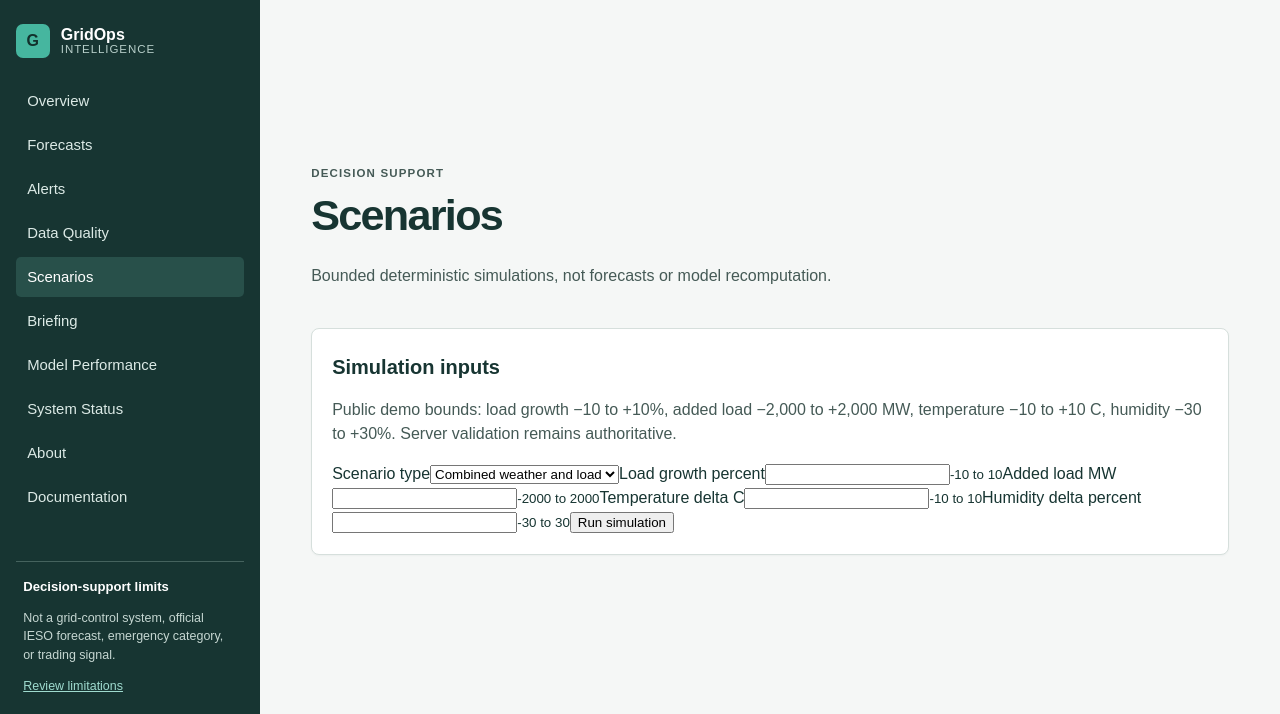
Test case: decision-support screens › submits a valid bounded scenario and presents the returned simulation
Type "2" into the number field named "demand_growth_percent" at (857, 474), box x1=765 y1=464 x2=950 y2=485
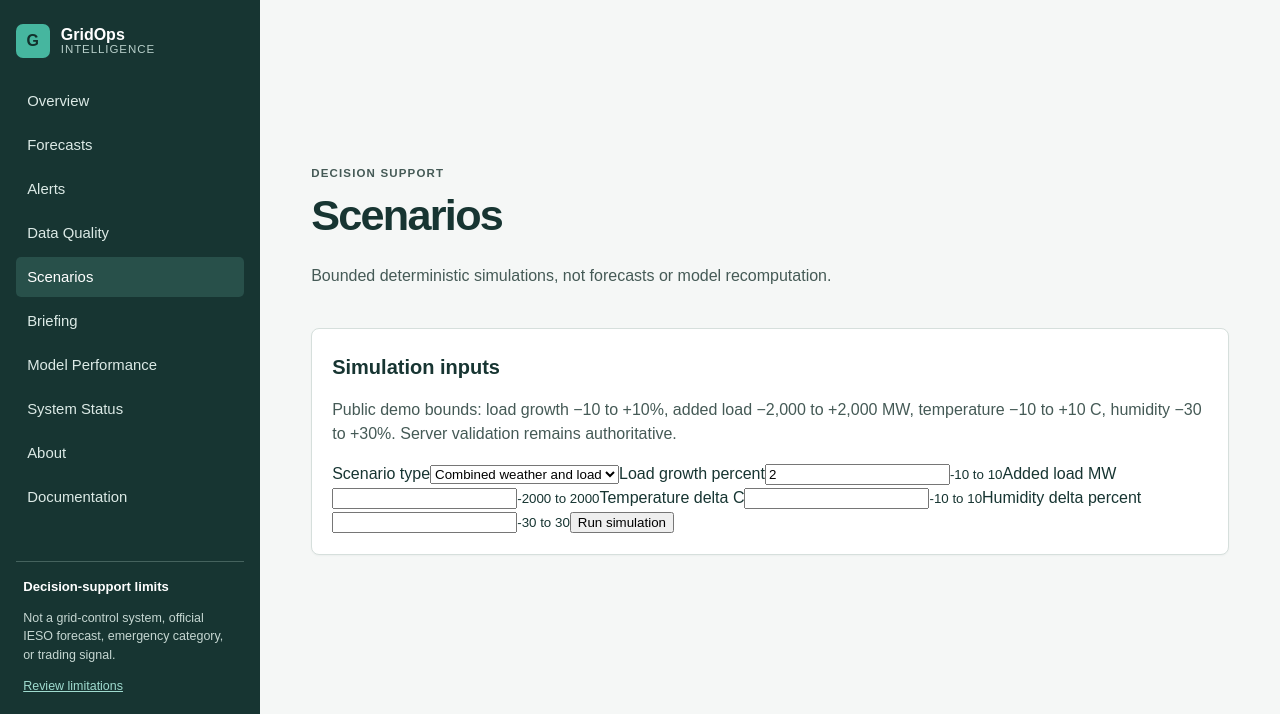
Click the button "Run simulation" at (622, 522), box x1=570 y1=512 x2=674 y2=533
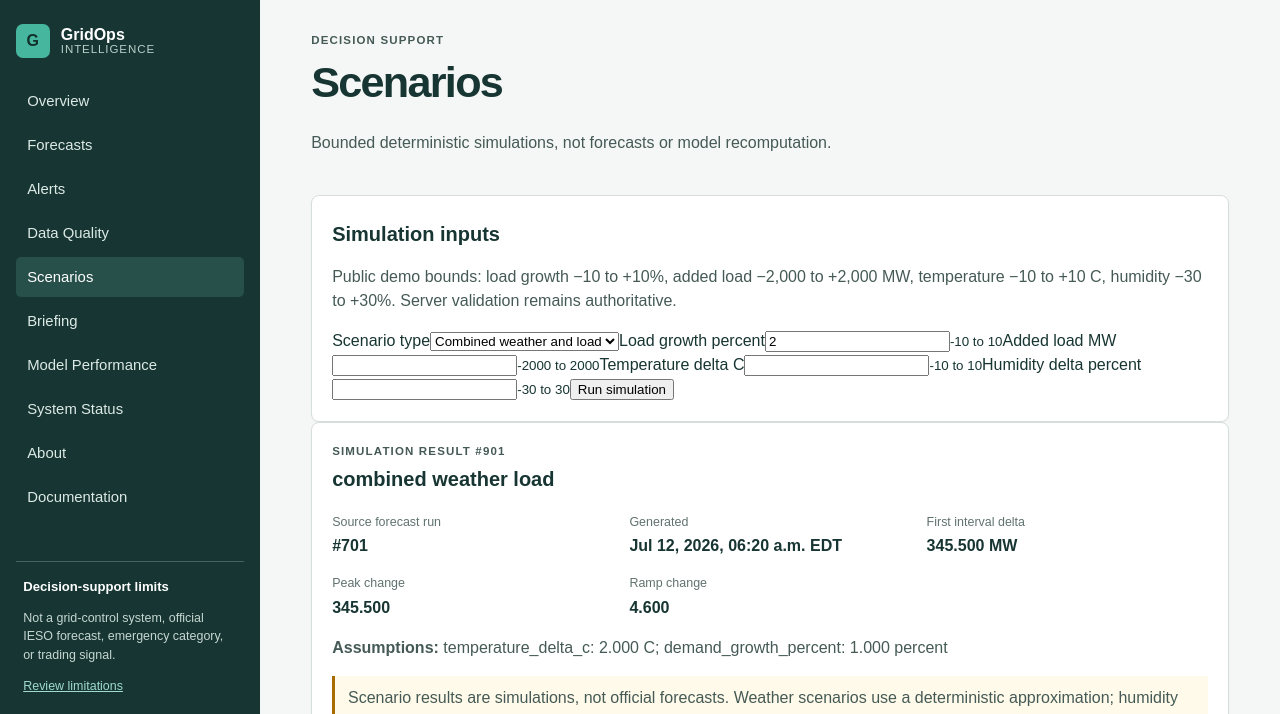
Expected: the text "Simulation result #901" is shown, x1=332 y1=445 x2=506 y2=457
